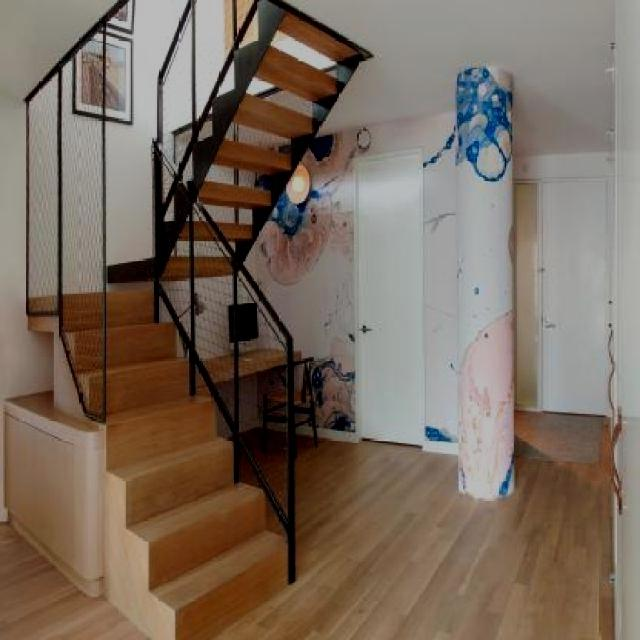stair: (2, 246, 290, 639), (136, 34, 358, 246)
